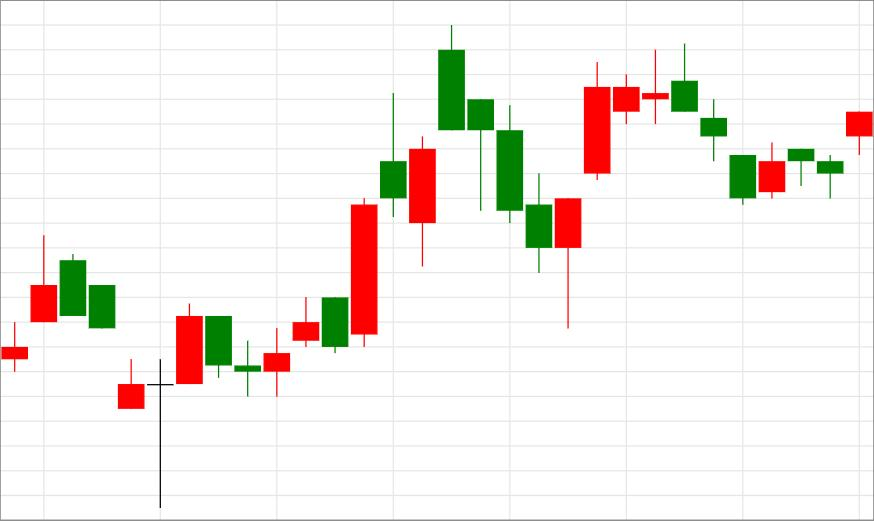hammer_rise: (438, 24, 582, 328)
shooting_star_fall: (234, 92, 406, 398)
